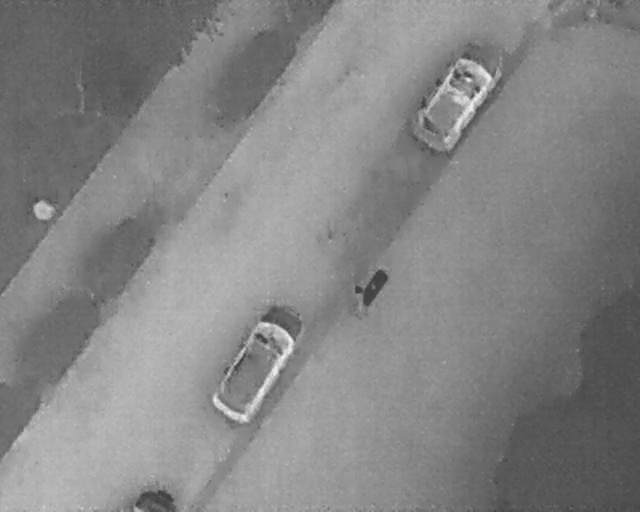Car: (200, 294, 316, 431), (401, 37, 510, 159), (130, 487, 177, 510)
